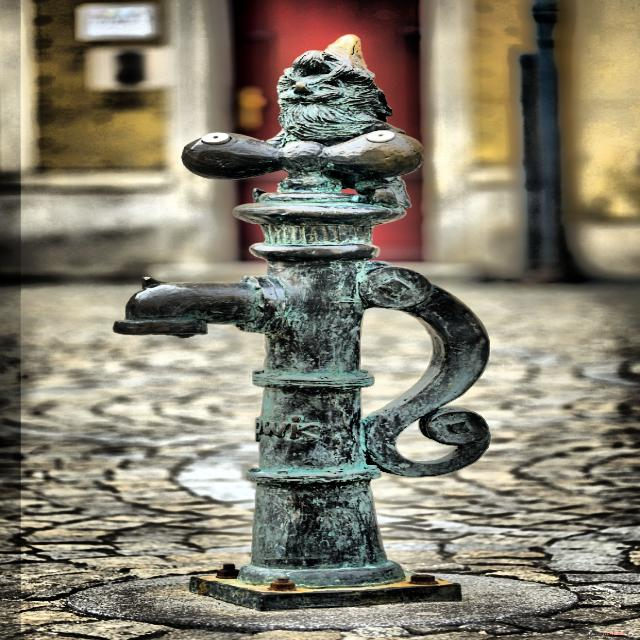Orzezwiacz: (113, 36, 491, 590)
